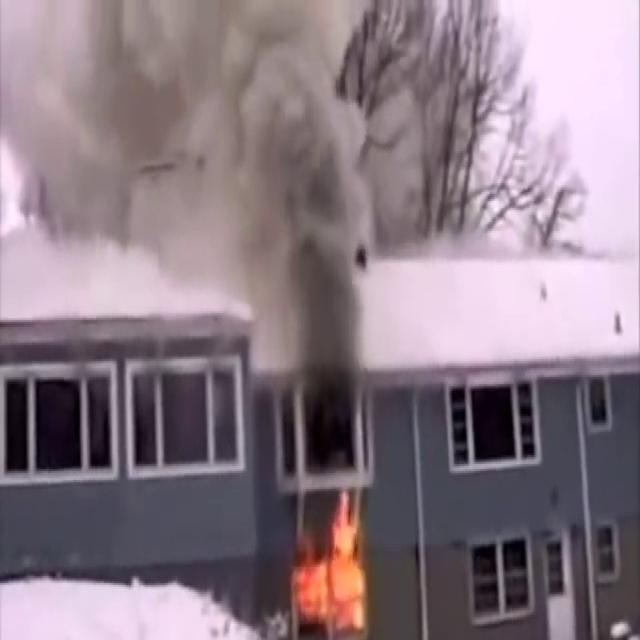Fire: (286, 480, 379, 635)
Smoke: (0, 0, 376, 315)
